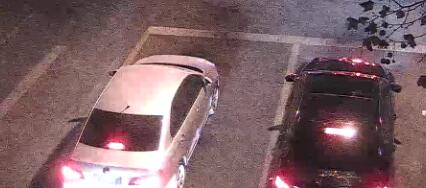car: (49, 54, 216, 186), (261, 57, 400, 186)
